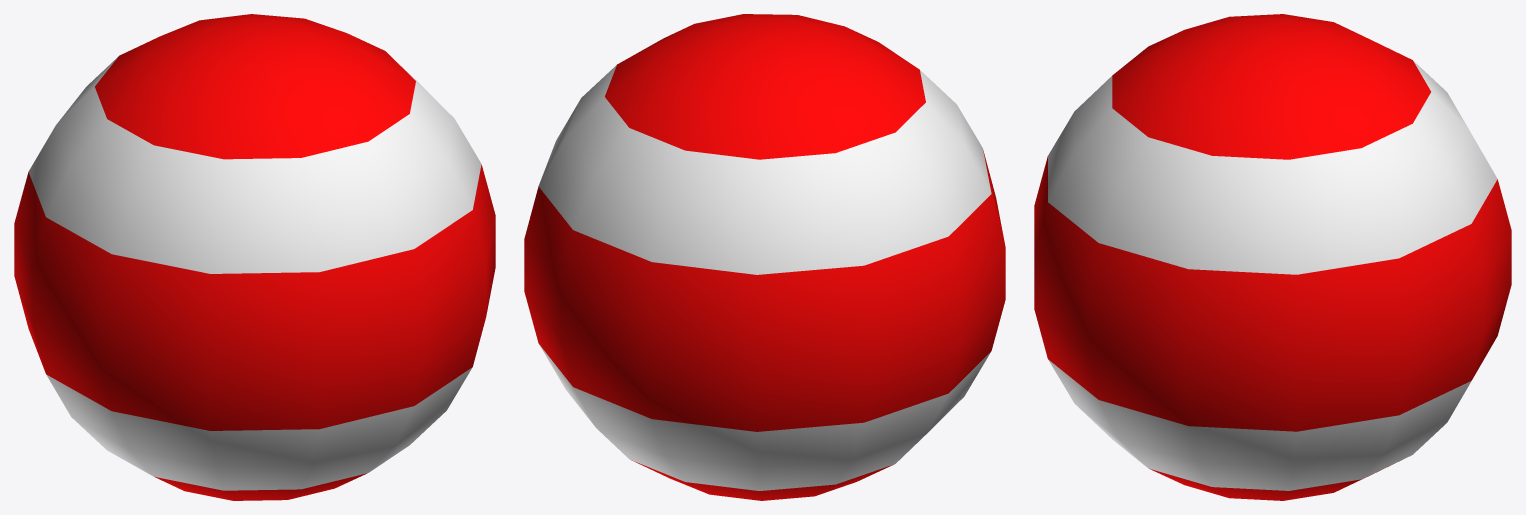
Rendered from D_Ball12_05.fbx.
3 renders of one model, left to right at view 1: azimuth 30°, elevation 25°; view 2: azimuth 150°, elevation 25°; view 3: azimuth 270°, elevation 25°, orthographic.
Visible parts, largest first — view 1: D_Ball12_05; view 2: D_Ball12_05; view 3: D_Ball12_05.
Part boxes in pixels (box(x1,y1,x2,y2)): D_Ball12_05: box(14, 14, 495, 500); D_Ball12_05: box(524, 14, 1005, 500); D_Ball12_05: box(1034, 14, 1511, 500).
Bounding box in the file's own units: 0.9798 × 0.9943 × 0.9727.
